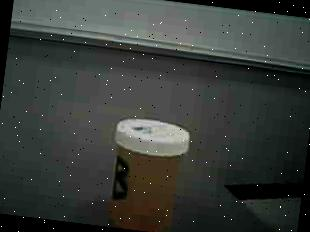Bottle B: (95, 109, 199, 232)
